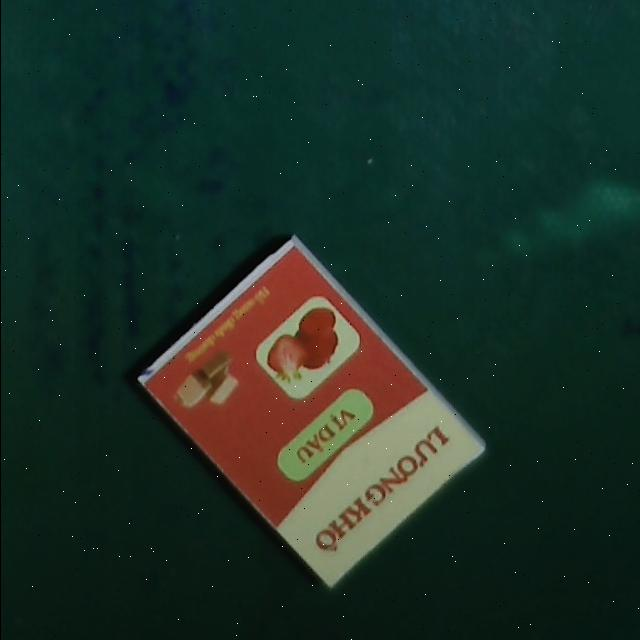dau: (134, 233, 488, 592)
